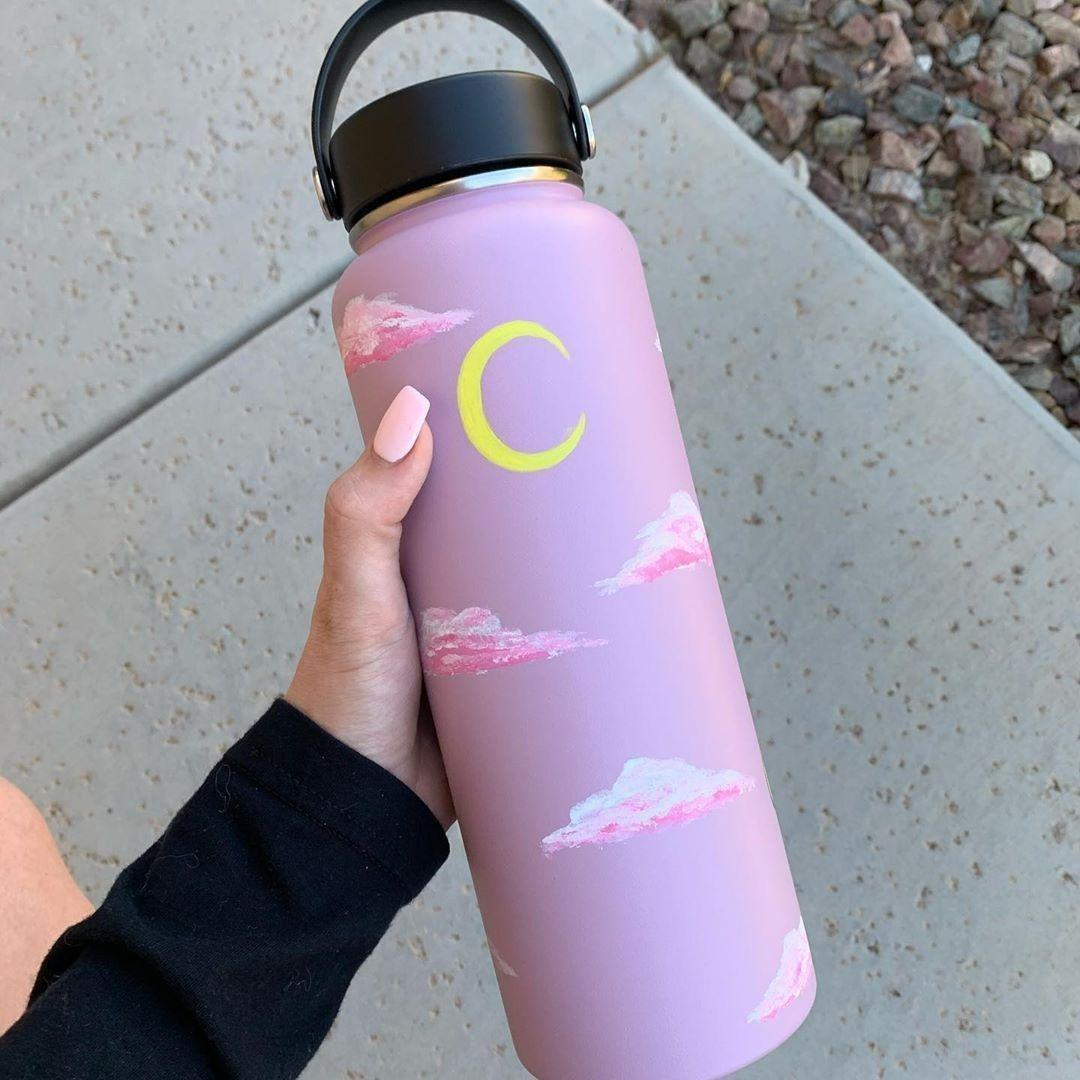gym bottle: (309, 0, 823, 1079)
